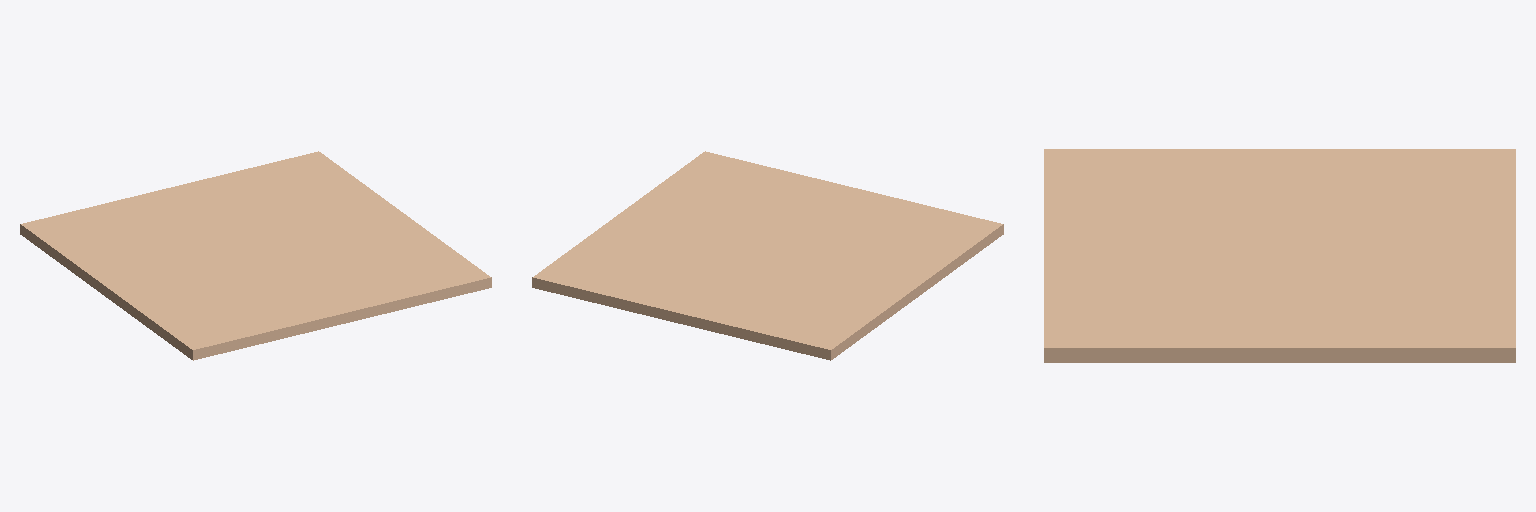
The robot description file, URDF, robot "container":
<?xml version="1.0"?>
<robot name="container">
  <link name="base_link">
    <visual>
      <origin xyz="0 0 0.005" rpy="0 0 0" />
      <geometry>
        <box size="0.3 0.3 0.01" />
      </geometry>
      <material name="desert sand">
        <color rgba="0.9297 0.7930 0.6758 1" />
      </material>
    </visual>
    <collision>
      <origin xyz="0 0 0.005" rpy="0 0 0" />
      <geometry>
        <box size="0.3 0.3 0.01" />
      </geometry>
    </collision>
  </link>
</robot>

--- Render facts (derived) ---
3 views of the same robot in one strip: view 1: azimuth 30°, elevation 25°; view 2: azimuth 150°, elevation 25°; view 3: azimuth 270°, elevation 25° (orthographic).
Robot: container — 1 links, 0 joints (none); root link base_link; default pose: every joint at zero.
Visible links, largest first — view 1: base_link; view 2: base_link; view 3: base_link.
Boxes of the visible links, left/top/right/bottom form: base_link: left=20, top=151, right=491, bottom=360; base_link: left=532, top=151, right=1003, bottom=360; base_link: left=1044, top=149, right=1515, bottom=362.
Size in the robot's own frame: 0.3 by 0.3 by 0.01 metres.
Geometry: primitives only (box / cylinder / sphere), no mesh files.